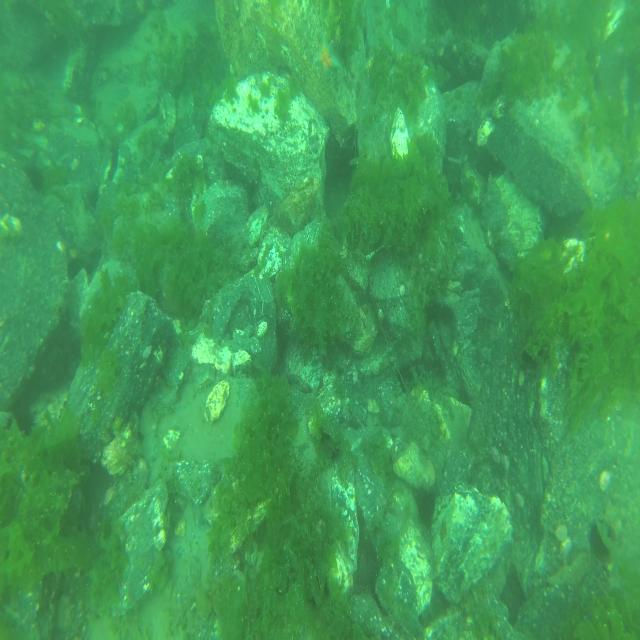echinus: (589, 518, 615, 554), (425, 300, 456, 330), (319, 432, 341, 471), (25, 167, 44, 190)
starfish: (314, 39, 339, 73)
